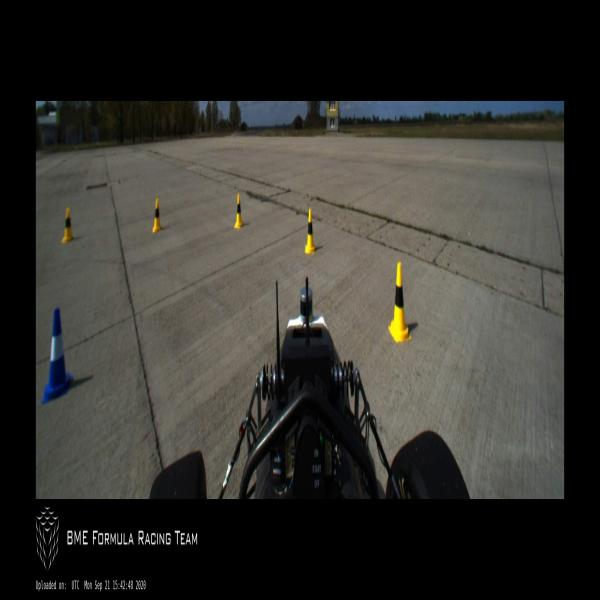blue_cone: (42, 308, 73, 404)
yellow_cone: (388, 262, 412, 344), (304, 208, 316, 254), (62, 206, 74, 244), (152, 197, 162, 233), (234, 193, 243, 228)
